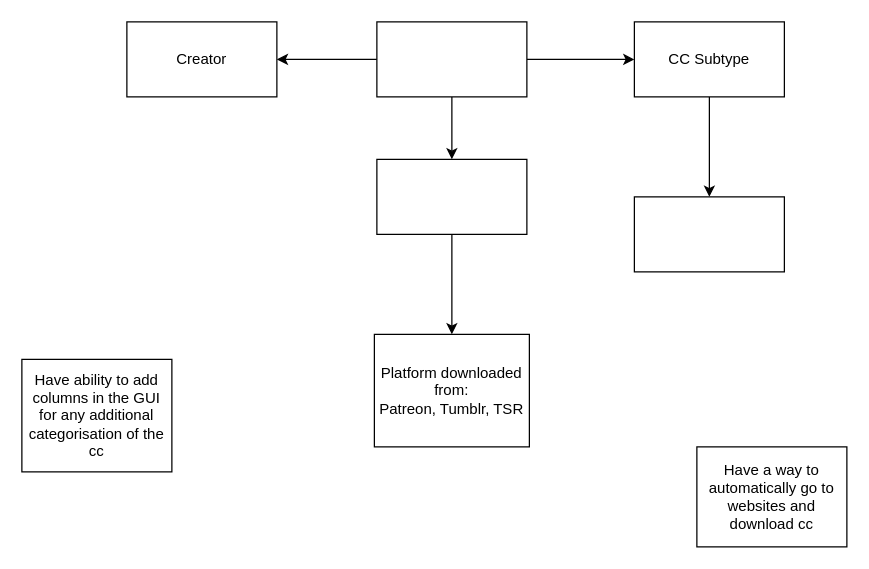
This 869x569 diagram has some shape labels left out. Each missing label, with the box of its shape:
Database: (376, 21, 527, 97)
Pack or individual?: (633, 196, 784, 272)
URL: (376, 158, 527, 234)
